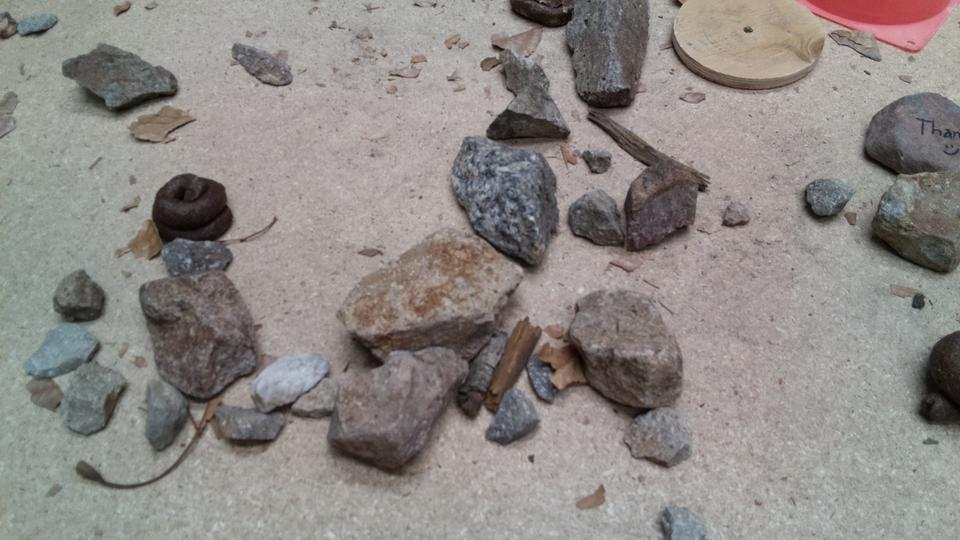poop: (150, 171, 235, 247), (918, 327, 960, 428), (507, 1, 575, 30)
